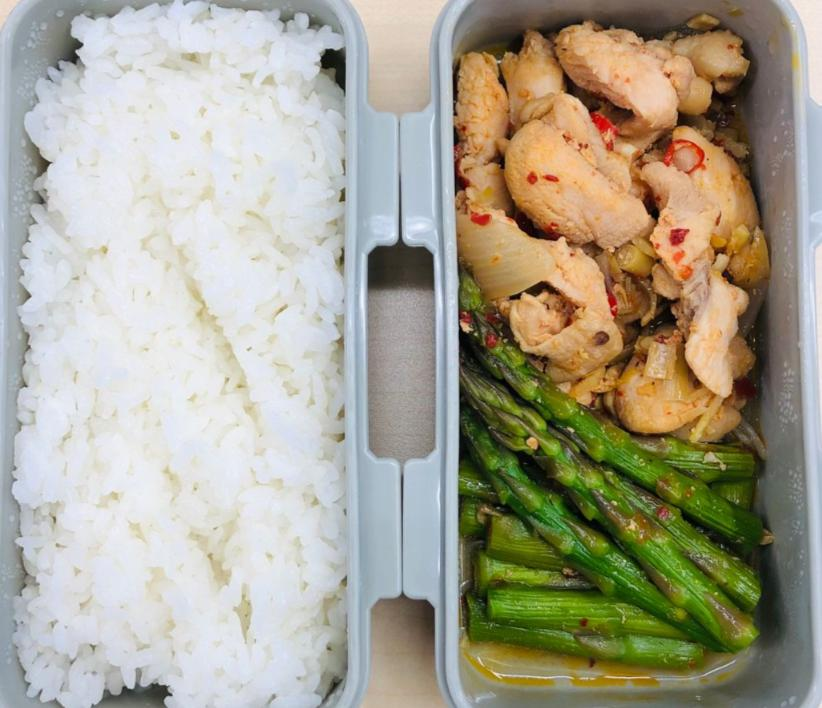buah_sayur_lainnya: (478, 456, 753, 646)
daging: (479, 49, 742, 301)
makanan_berpati: (51, 29, 324, 661)
